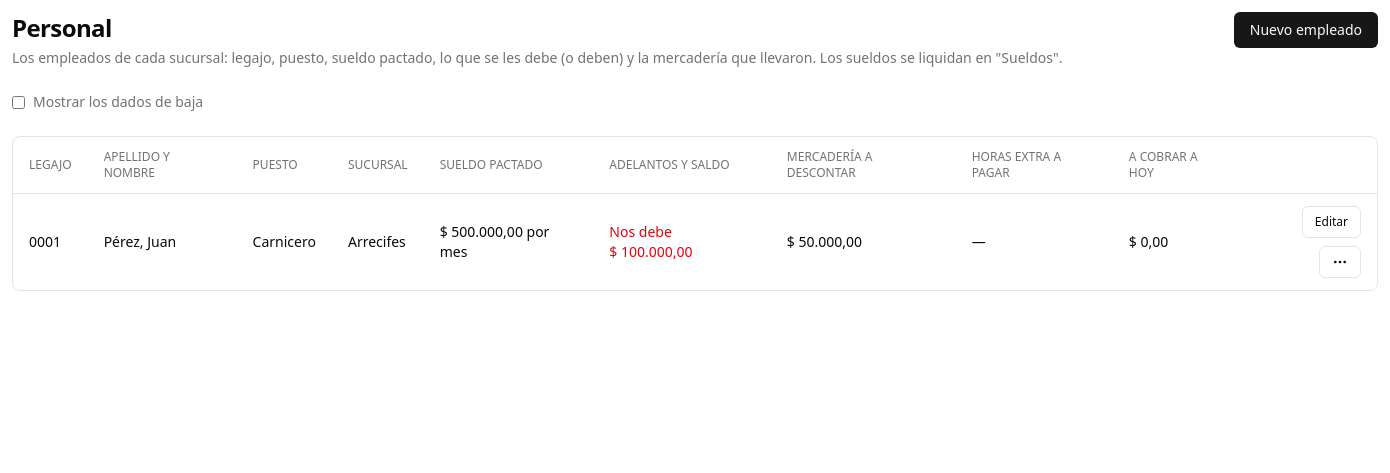
staff and payroll screens › opens "Gestionar baja" of an employee from its row, instead of a bare Dar de baja
Click the button named "Acciones de Pérez, Juan": (1340,262) [1319, 246, 1361, 278]
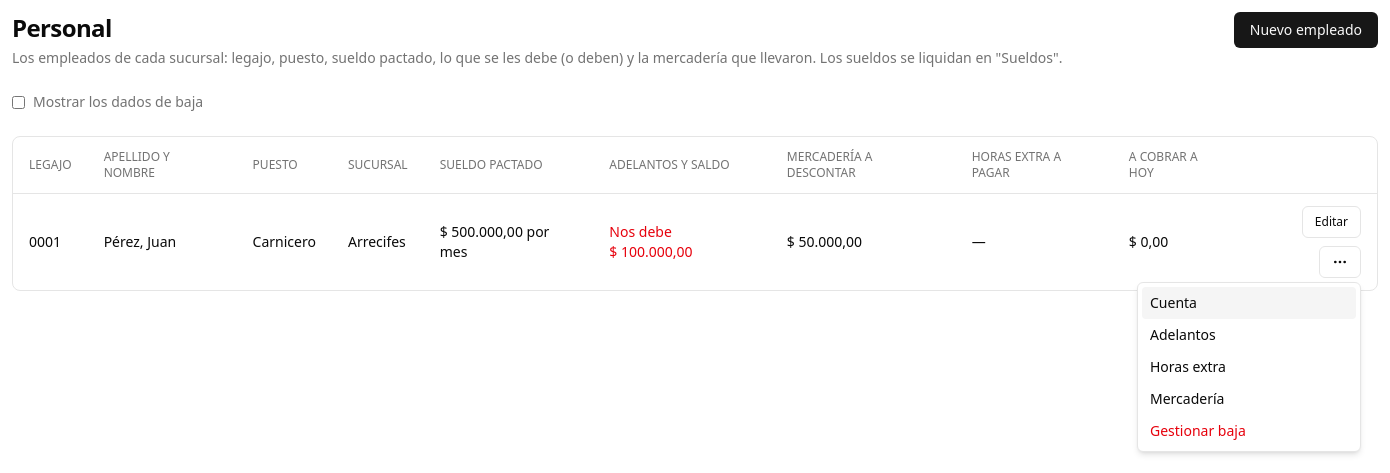
Expected: the menu item "Dar de baja" is not shown
Click the menu item "Gestionar baja": (1249,431) [1142, 415, 1356, 447]
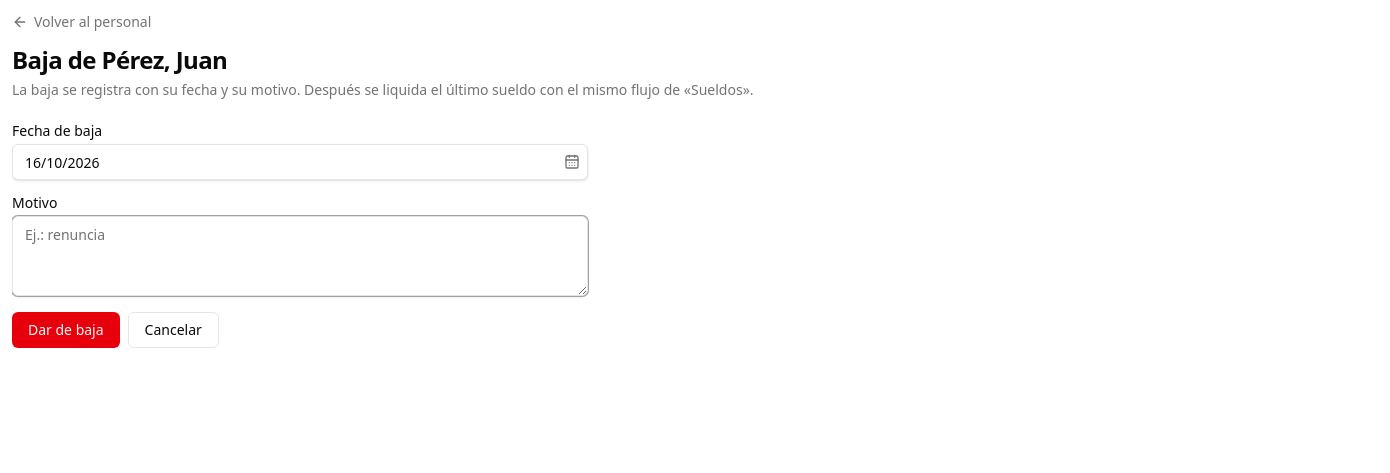
Now the heading "Baja de Pérez, Juan" is shown, box [12, 43, 227, 76]
